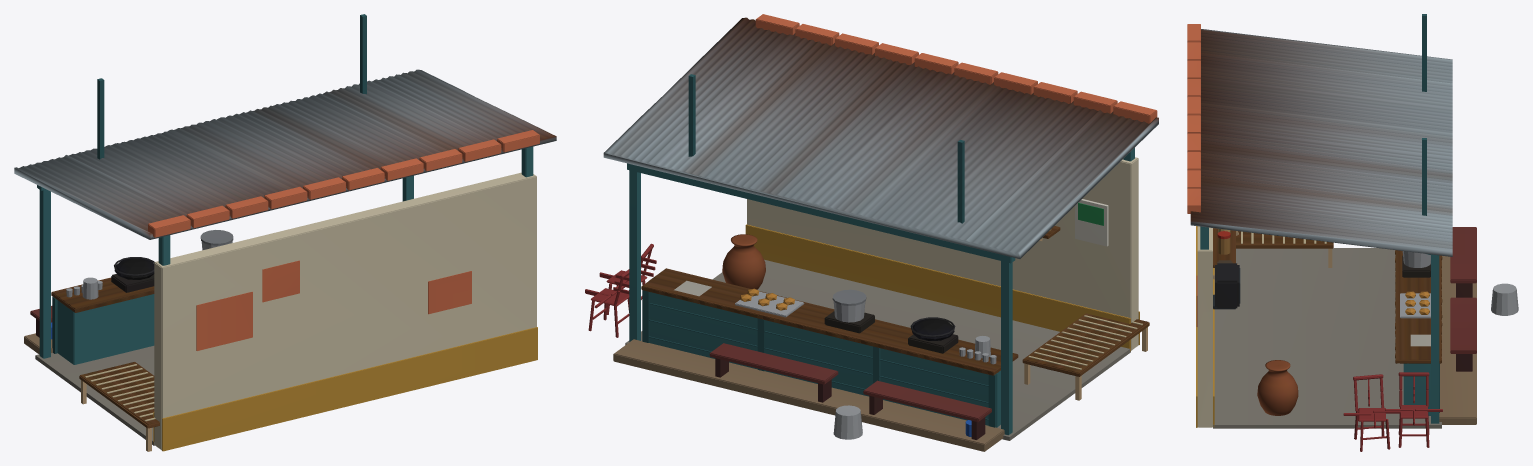
The model's file is tea_stall_chowk.glb.
3 views of the same model, side by side, from view 1: azimuth 30°, elevation 25°; view 2: azimuth 150°, elevation 25°; view 3: azimuth 270°, elevation 25° (orthographic). The views are drawn at different scales.
Visible parts, largest first — view 1: hb_main, hb_tin, hb_brick, hb_props; view 2: hb_main, hb_tin, hb_props, hb_brick; view 3: hb_main, hb_tin, hb_props, hb_brick.
Part boxes in pixels (x1,y1,x2,y2): hb_main: (24, 14, 537, 451); hb_tin: (14, 69, 556, 239); hb_brick: (148, 130, 539, 350); hb_props: (51, 277, 159, 451); hb_main: (585, 74, 1142, 451); hb_tin: (603, 17, 1158, 258); hb_props: (641, 226, 1149, 400); hb_brick: (755, 14, 1157, 123); hb_main: (1196, 14, 1518, 451); hb_tin: (1190, 29, 1452, 256); hb_props: (1213, 228, 1442, 363); hb_brick: (1187, 24, 1200, 326).
Bounding box in the file's own units: 7.2 × 4.16 × 4.75.
